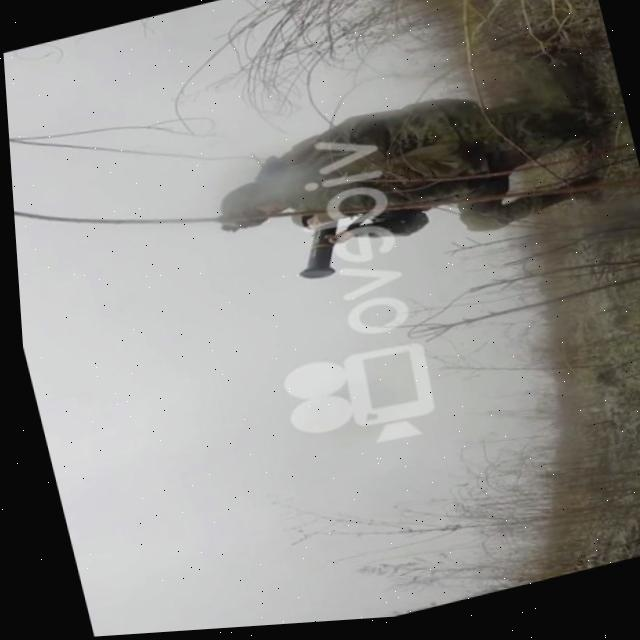rocket: (281, 212, 360, 288)
